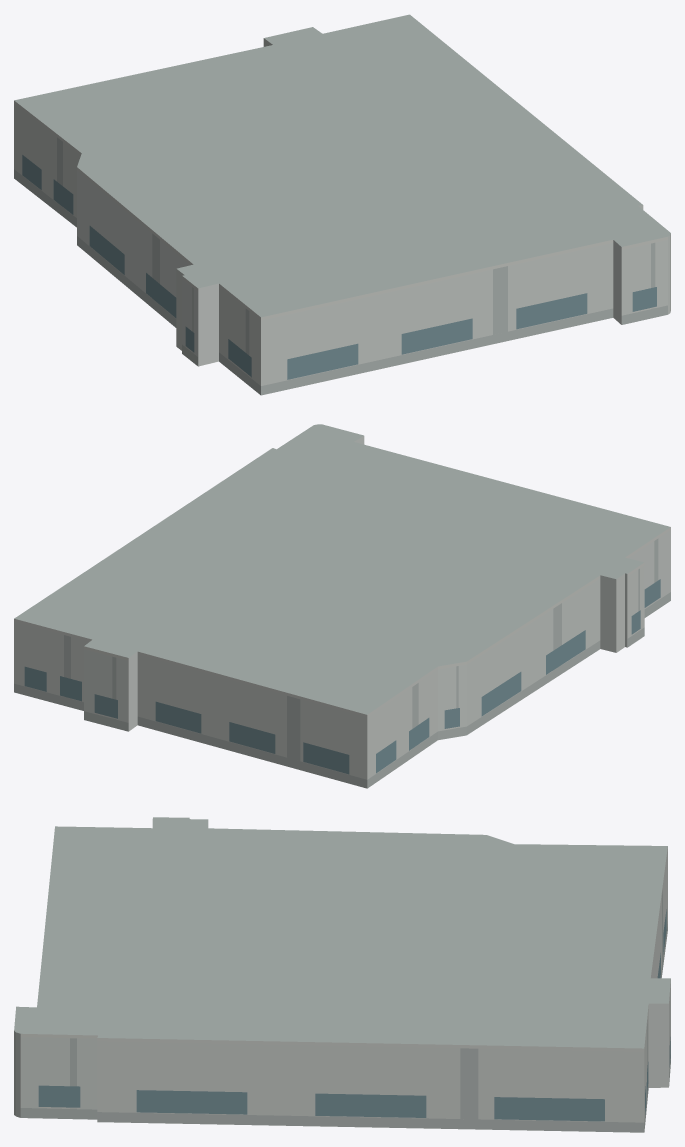
The model's file is survey-upis-32877847.glb.
3 renders of one model, top to bottom at view 1: azimuth 30°, elevation 25°; view 2: azimuth 150°, elevation 25°; view 3: azimuth 270°, elevation 25°, orthographic. The views are drawn at different scales.
Parts seen in each view (by area): view 1: survey-upis-32877847.tmp; view 2: survey-upis-32877847.tmp; view 3: survey-upis-32877847.tmp.
Boxes of the visible parts, bbox=[...] form: survey-upis-32877847.tmp: bbox=[14, 14, 670, 395]; survey-upis-32877847.tmp: bbox=[14, 424, 670, 788]; survey-upis-32877847.tmp: bbox=[14, 817, 670, 1132].
Bounding box in the file's own units: 35.95 × 6.1 × 43.14.
